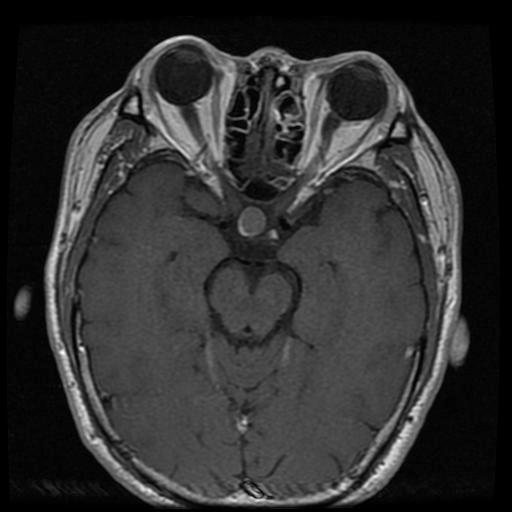Tumour-Pituitary: (228, 208, 267, 241)
